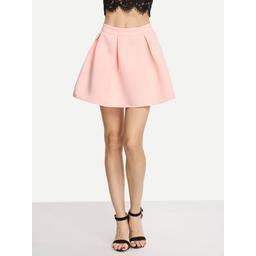skirt: (71, 22, 177, 106)
